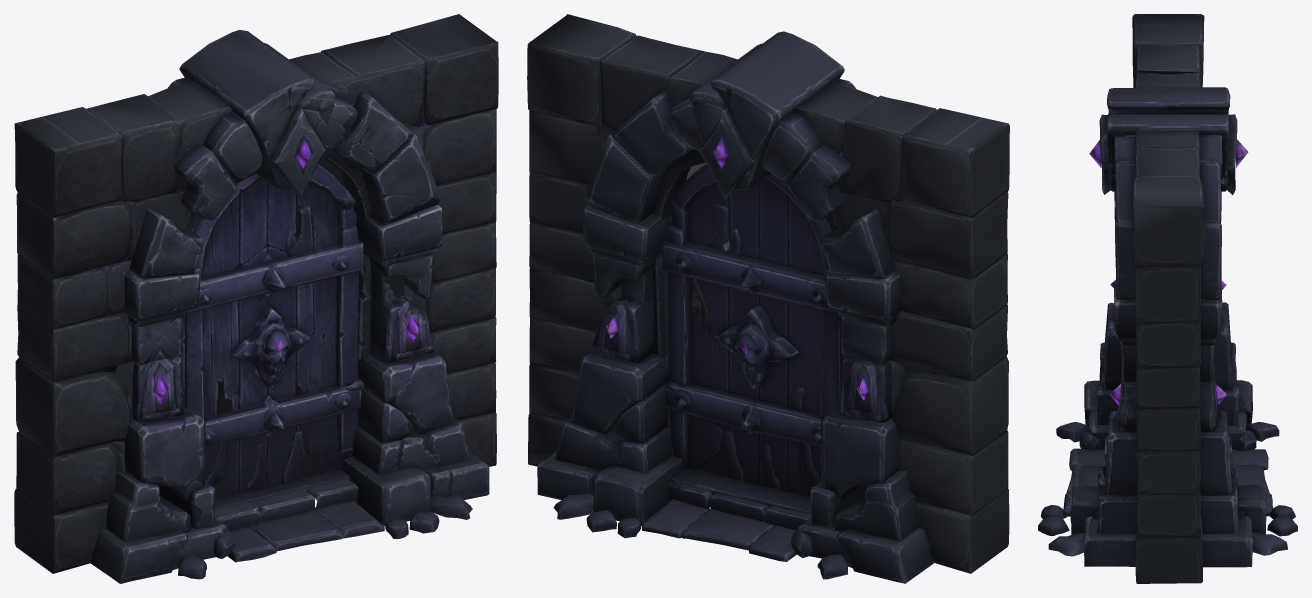
The model's file is door_shadowgem_gate.glb.
3 renders of one model, left to right at view 1: azimuth 30°, elevation 25°; view 2: azimuth 150°, elevation 25°; view 3: azimuth 270°, elevation 25°, orthographic. The views are drawn at different scales.
Parts seen in each view (by area): view 1: mesh_node; view 2: mesh_node; view 3: mesh_node.
Boxes of the visible parts, x1,y1,x2,y2 form: mesh_node: (14,14,498,583); mesh_node: (527,14,1009,583); mesh_node: (1038,14,1297,583).
Bounding box in the file's own units: 1 × 0.9648 × 0.5703.
1 material, 1 textured.
